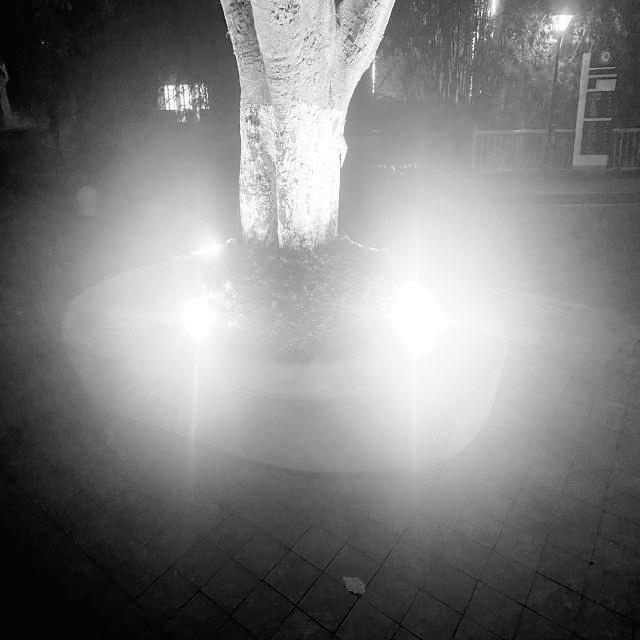Light: (146, 266, 244, 363), (378, 270, 453, 360)
Tree: (219, 0, 396, 257)
